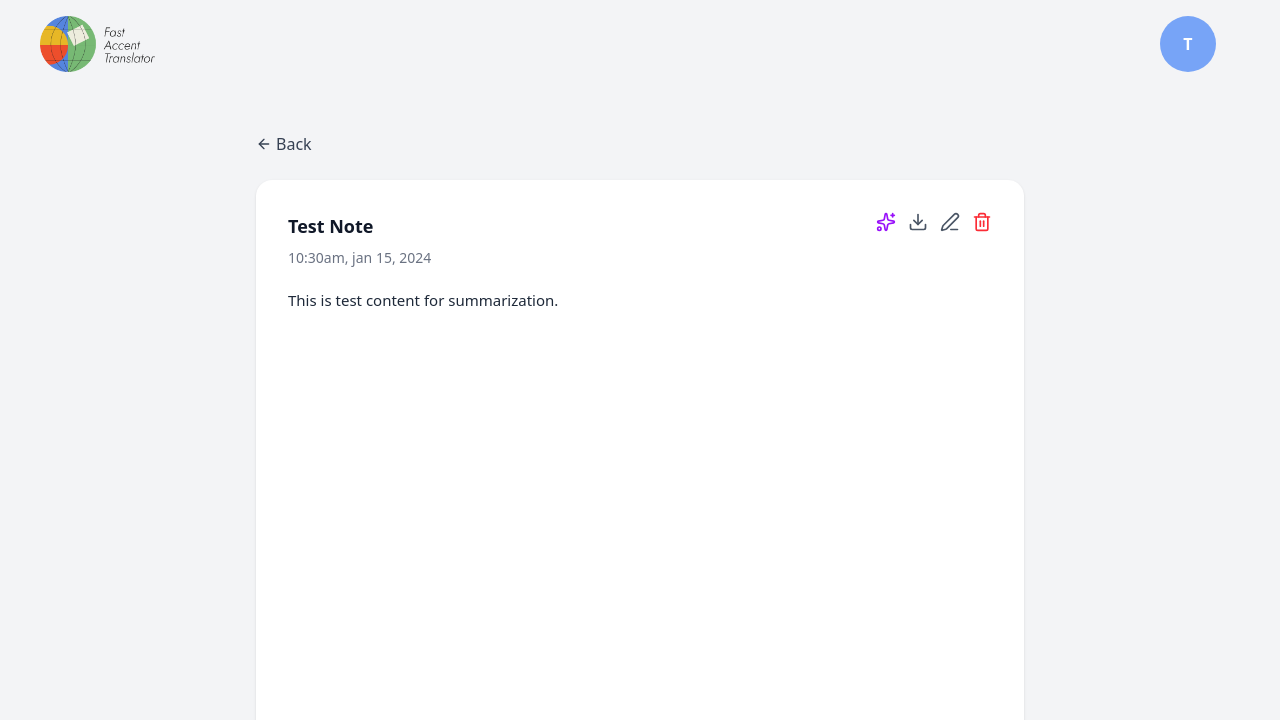
NotesPage Component › should generate AI summary and display it in purple-themed section when summarize button is clicked
The width and height of the screenshot is (1280, 720).
Click the button titled "AI Summary". click: (886, 222)
box: [876,212,896,232]
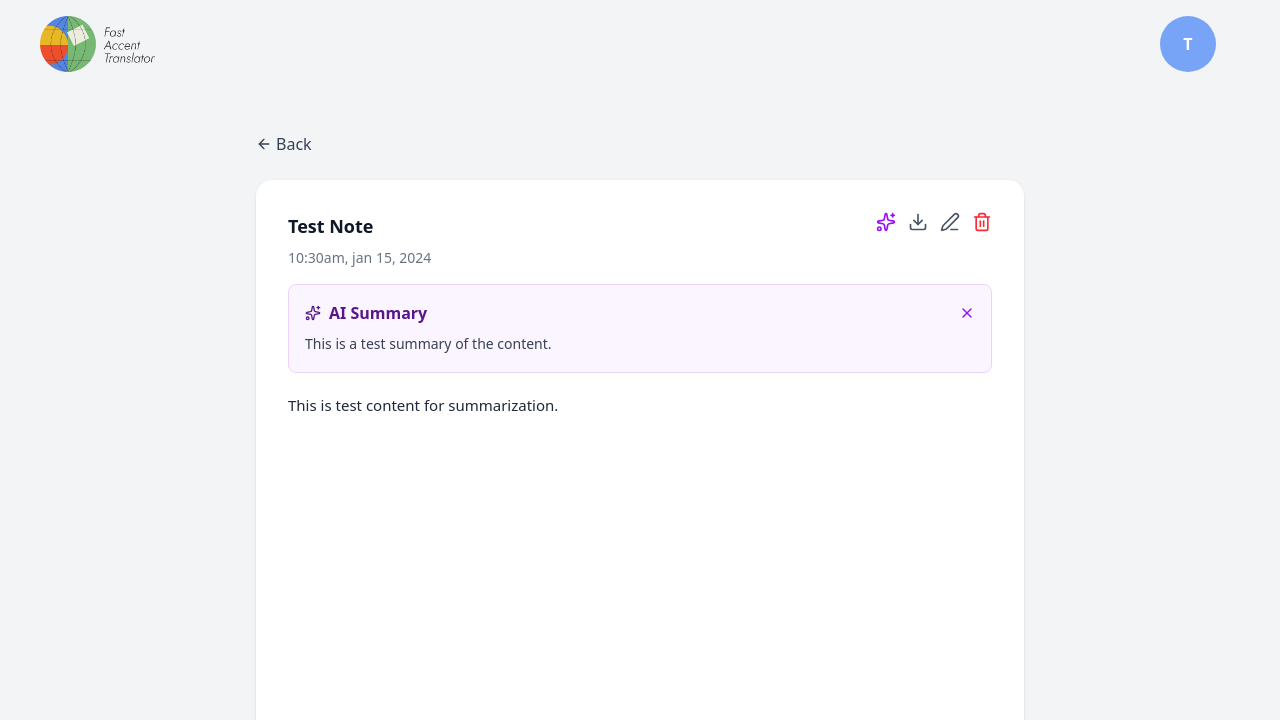
Check: the heading "AI Summary" is shown, box [305,301,427,325]
Check: the text "This is a test summary of the content." is shown, box [305,334,552,353]
